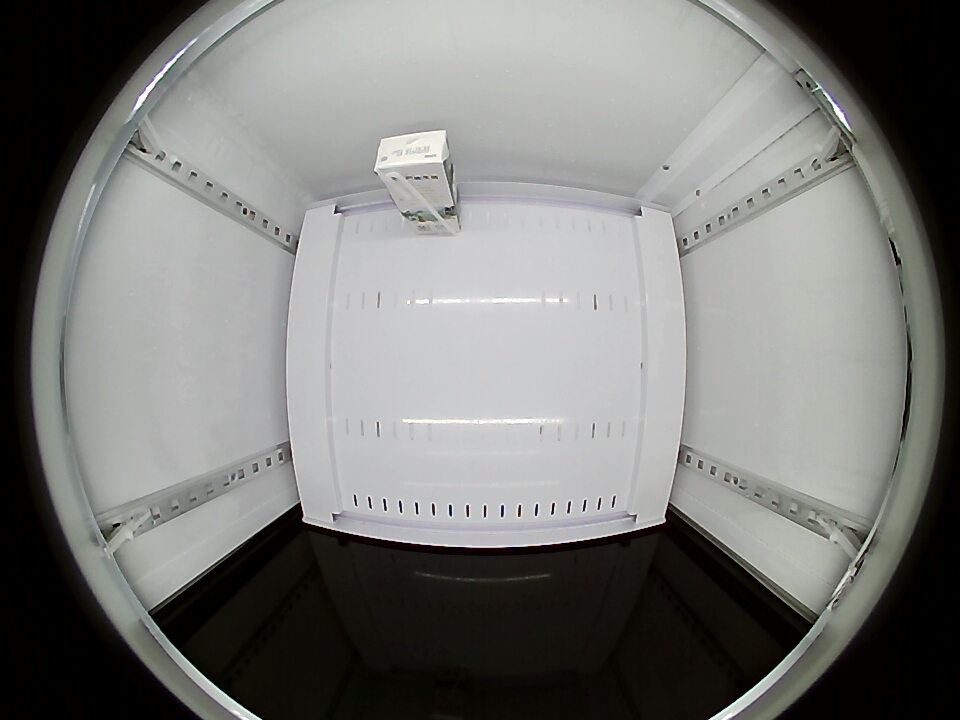jindian: (373, 129, 454, 189)
